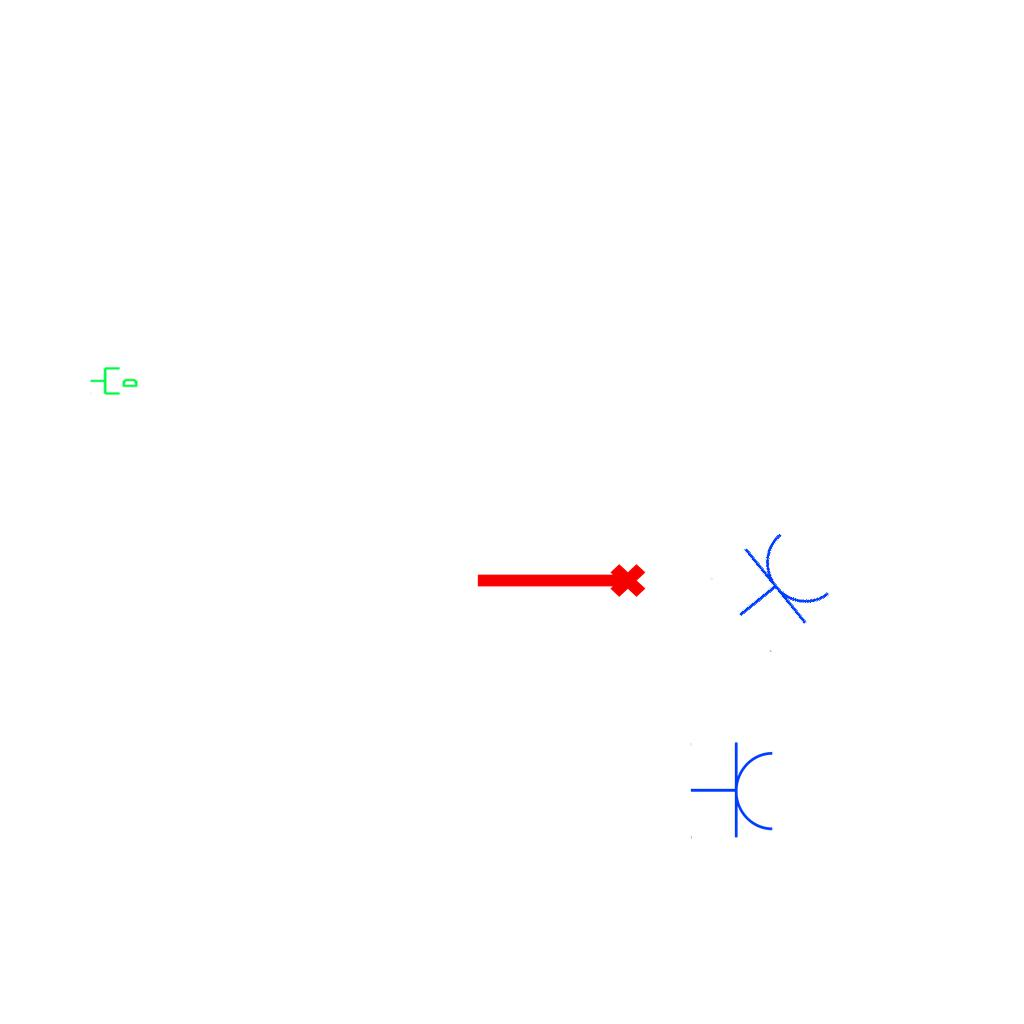ASR_Ansaugoeffnung: (472, 560, 648, 606)
Datenanschluss_einfach: (89, 363, 139, 397)
Schukosteckdose_einfach: (708, 522, 840, 655), (690, 741, 777, 841)
